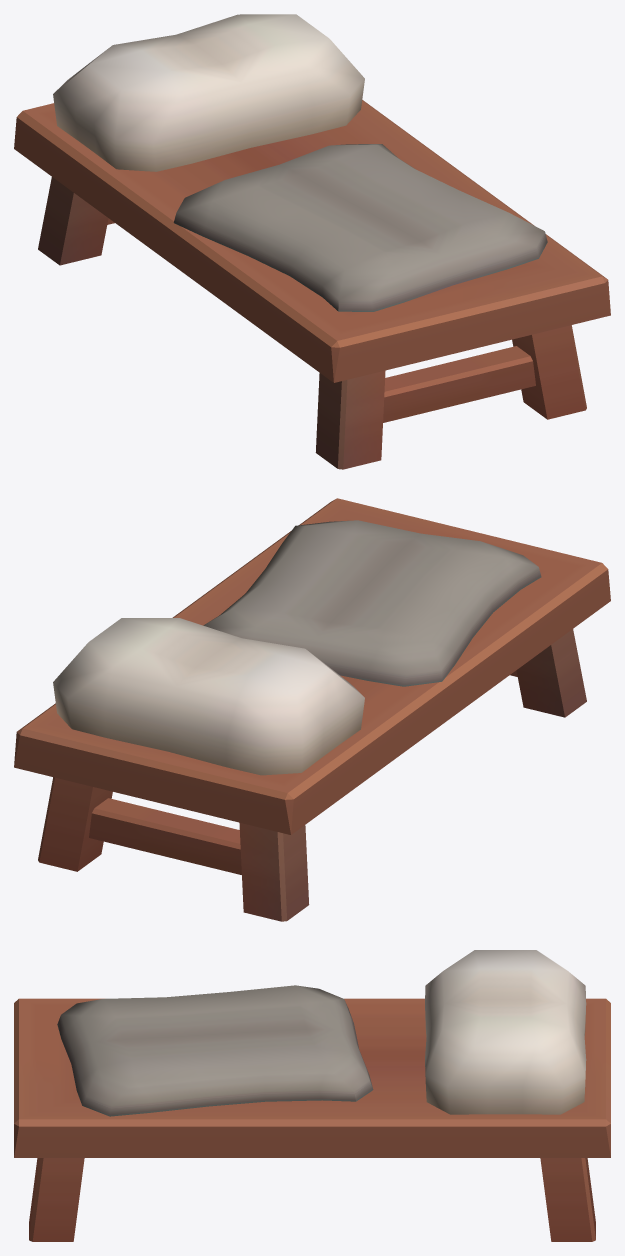
Rendered from kay-cama-estrado.gltf.
3 views of the same model, one above another, from view 1: azimuth 30°, elevation 25°; view 2: azimuth 150°, elevation 25°; view 3: azimuth 270°, elevation 25° (orthographic). The views are drawn at different scales.
Parts seen in each view (by area): view 1: bed_frame; view 2: bed_frame; view 3: bed_frame.
Part boxes in pixels (box(x1,y1,x2,y2)): bed_frame: box(14, 14, 610, 469); bed_frame: box(14, 498, 610, 921); bed_frame: box(14, 950, 610, 1241).
Size of the model in its own units: 0.9751 by 0.6906 by 1.95.
1 material, 1 textured.
